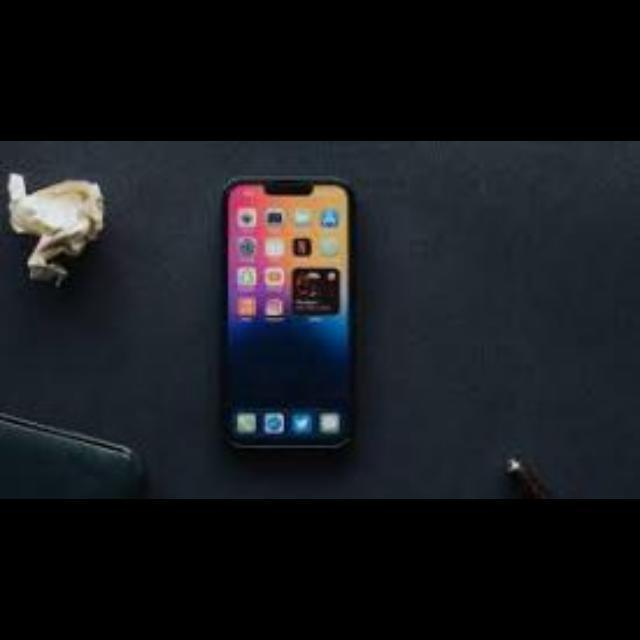PhoneUse: (222, 180, 360, 456)
